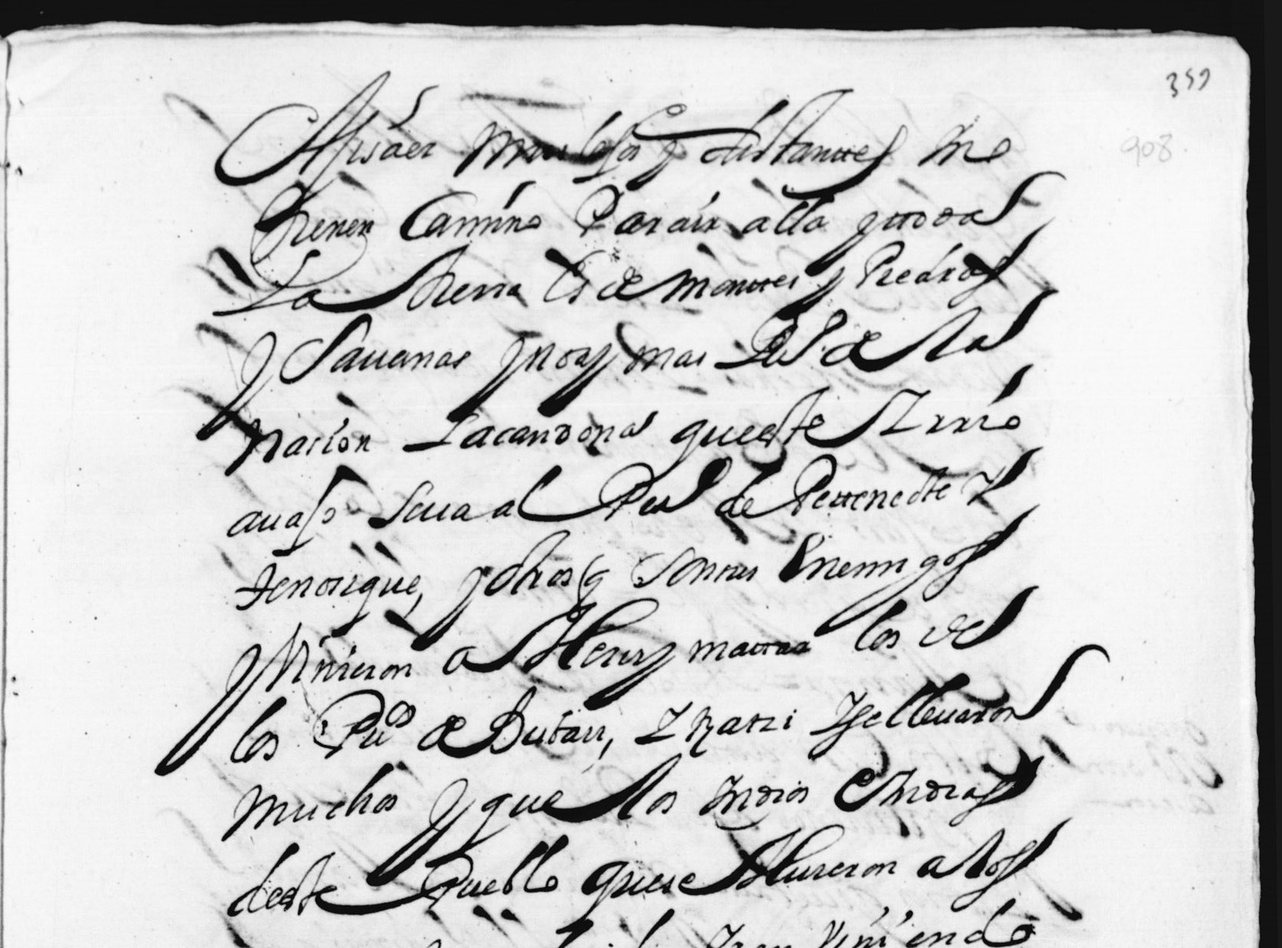lacandon: (402, 411, 658, 452)
